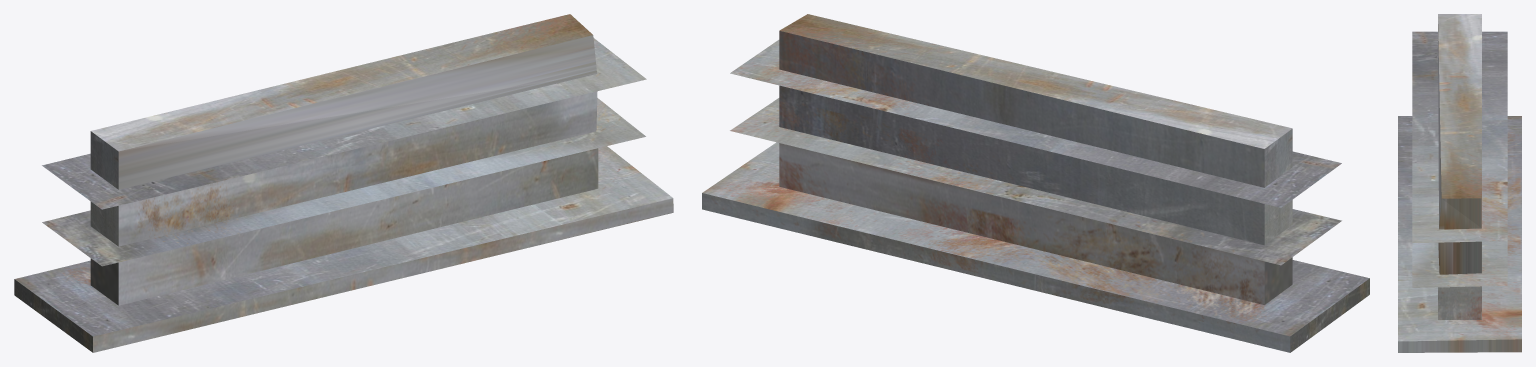
The model's file is Supermarket Shelf.fbx.
3 views of the same model, side by side, from view 1: azimuth 30°, elevation 25°; view 2: azimuth 150°, elevation 25°; view 3: azimuth 270°, elevation 25° (orthographic). The views are drawn at different scales.
Visible parts, largest first — view 1: Gondolas; view 2: Gondolas; view 3: Gondolas.
Part boxes in pixels (box(x1,y1,x2,y2)): Gondolas: box(14, 14, 673, 352); Gondolas: box(702, 14, 1369, 352); Gondolas: box(1398, 14, 1521, 352).
Bounding box in the file's own units: 890 × 252 × 209.
1 material, 1 textured.
